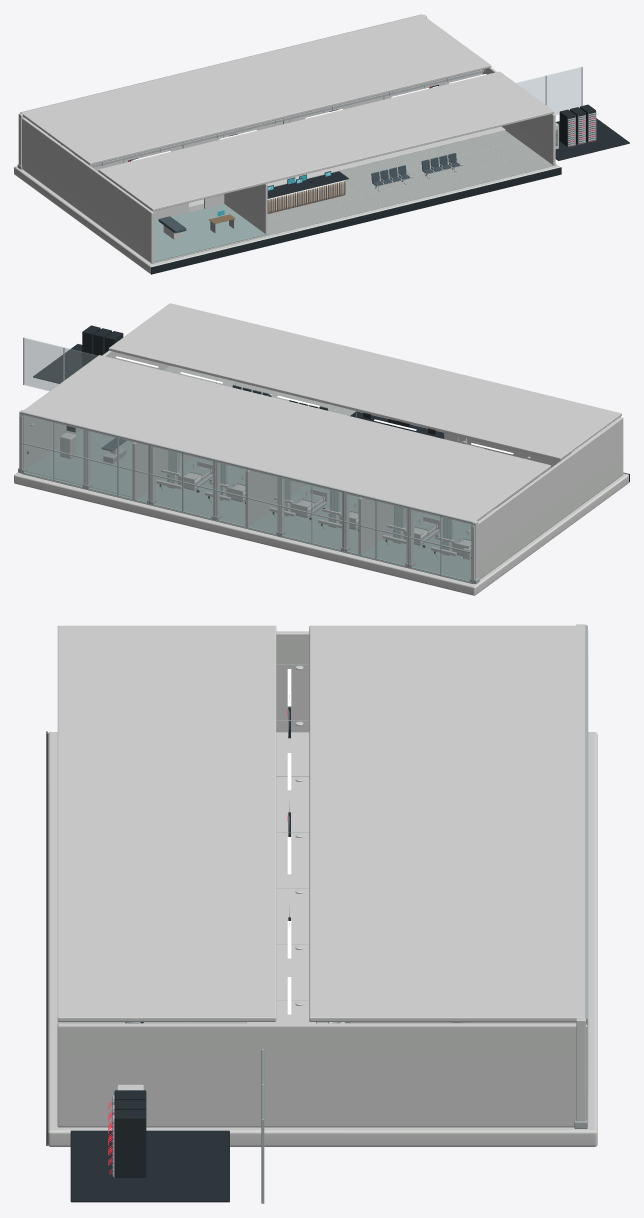
The model's file is hospital-walkthrough.glb.
3 views of the same model, one above another, from view 1: azimuth 30°, elevation 25°; view 2: azimuth 150°, elevation 25°; view 3: azimuth 270°, elevation 25° (orthographic). The views are drawn at different scales.
Parts seen in each view (by area): view 1: Ceiling__chalk, Architecture__chalk, Architecture__stone, Architecture__dark, Architecture__resin, Architecture__glass, Data__metal, Furniture-context__upholstery, Furniture-context__chalk, Furniture-context__wood, Data__dark, Architecture__metal (+1 smaller); view 2: Ceiling__chalk, Architecture__glass, Architecture__chalk, Architecture__resin, Architecture__metal, Furniture-context__chalk, Furniture-context__resin, Architecture__stone, Architecture__dark, Data__dark, Furniture-context__metal, Ceiling__light (+1 smaller); view 3: Ceiling__chalk, Architecture__chalk, Architecture__dark, Data__dark, Architecture__metal, Ceiling__light.
Part boxes in pixels (x1,y1,x2,y2): Ceiling__chalk: (21,15,554,211); Architecture__chalk: (14,14,560,273); Architecture__stone: (153,130,554,263); Architecture__dark: (151,118,629,274); Architecture__resin: (73,153,266,261); Architecture__glass: (25,67,581,151); Data__metal: (91,69,596,166); Furniture-context__upholstery: (158,153,460,233); Furniture-context__chalk: (55,140,345,239); Furniture-context__wood: (209,181,345,223); Data__dark: (559,104,595,146); Architecture__metal: (17,14,582,191); Ceiling__chalk: (21,303,621,524); Architecture__glass: (21,337,472,581); Architecture__chalk: (14,350,628,595); Architecture__resin: (24,429,485,581); Architecture__metal: (18,337,479,583); Furniture-context__chalk: (60,432,471,556); Furniture-context__resin: (168,451,471,549); Architecture__stone: (163,365,443,432); Architecture__dark: (33,344,629,482); Data__dark: (82,325,123,365); Furniture-context__metal: (103,378,477,555); Ceiling__light: (116,356,513,454); Ceiling__chalk: (57,625,585,1021); Architecture__chalk: (47,624,597,1146); Architecture__dark: (46,731,229,1202); Data__dark: (112,1090,146,1177); Architecture__metal: (126,625,587,1203); Ceiling__light: (287,669,291,1014).
Size of the model in its own units: 33.82 by 4.21 by 16.64.
